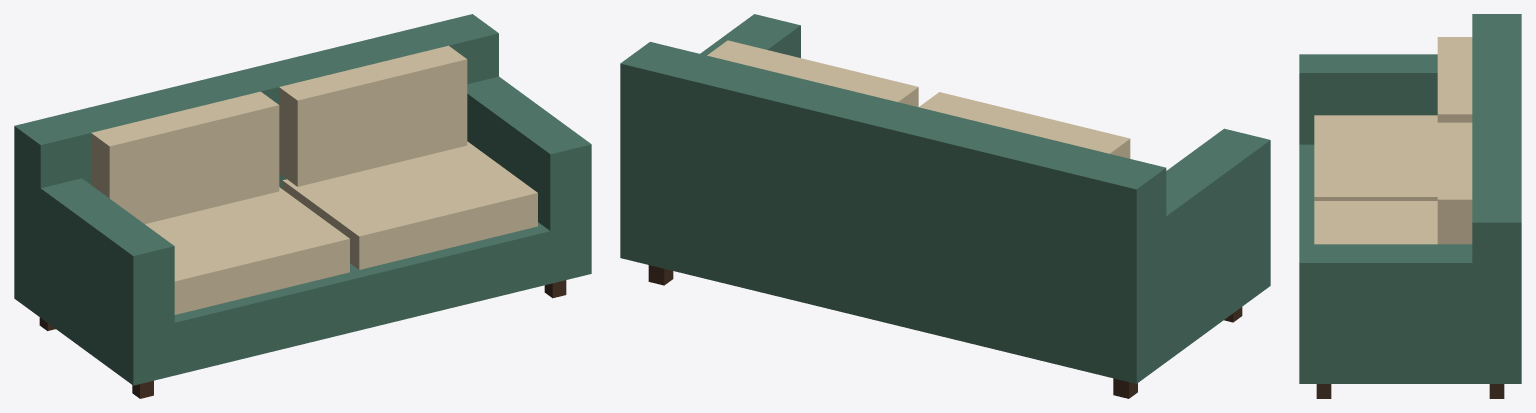
Rendered from sofa.glb.
The picture shows the model from 3 angles, left to right: view 1: azimuth 30°, elevation 25°; view 2: azimuth 150°, elevation 25°; view 3: azimuth 270°, elevation 25°; orthographic projection. The views are drawn at different scales.
Visible parts, largest first — view 1: sofa; view 2: sofa; view 3: sofa.
Part boxes in pixels (x1,y1,x2,y2): sofa: (14,14,591,398); sofa: (620,14,1270,398); sofa: (1299,14,1521,398).
Size of the model in its own units: 2 by 0.82 by 0.9.
